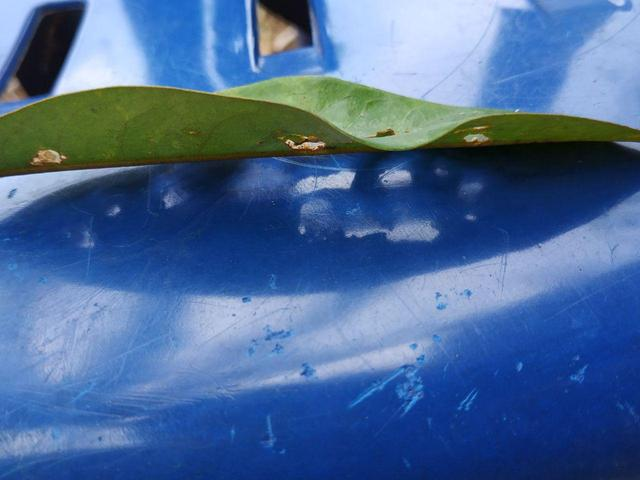blight spot: (257, 125, 332, 154), (18, 135, 74, 172), (455, 122, 504, 153), (357, 121, 413, 148)
